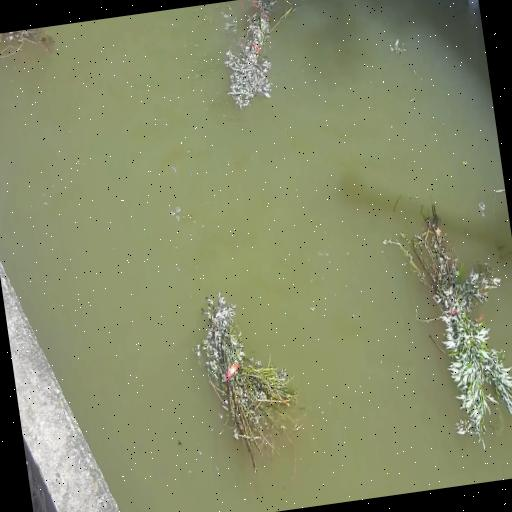twig: (379, 190, 512, 453), (187, 279, 311, 484), (209, 0, 318, 112), (0, 26, 60, 84)
